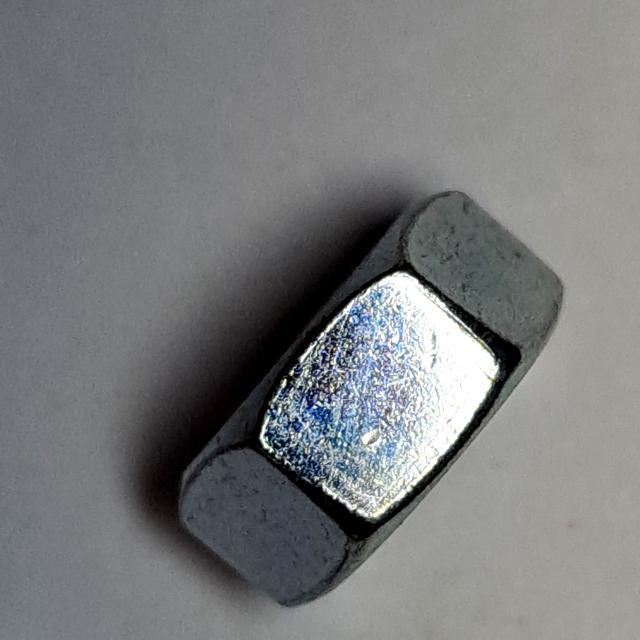Side_Excellent: (166, 181, 575, 620)
